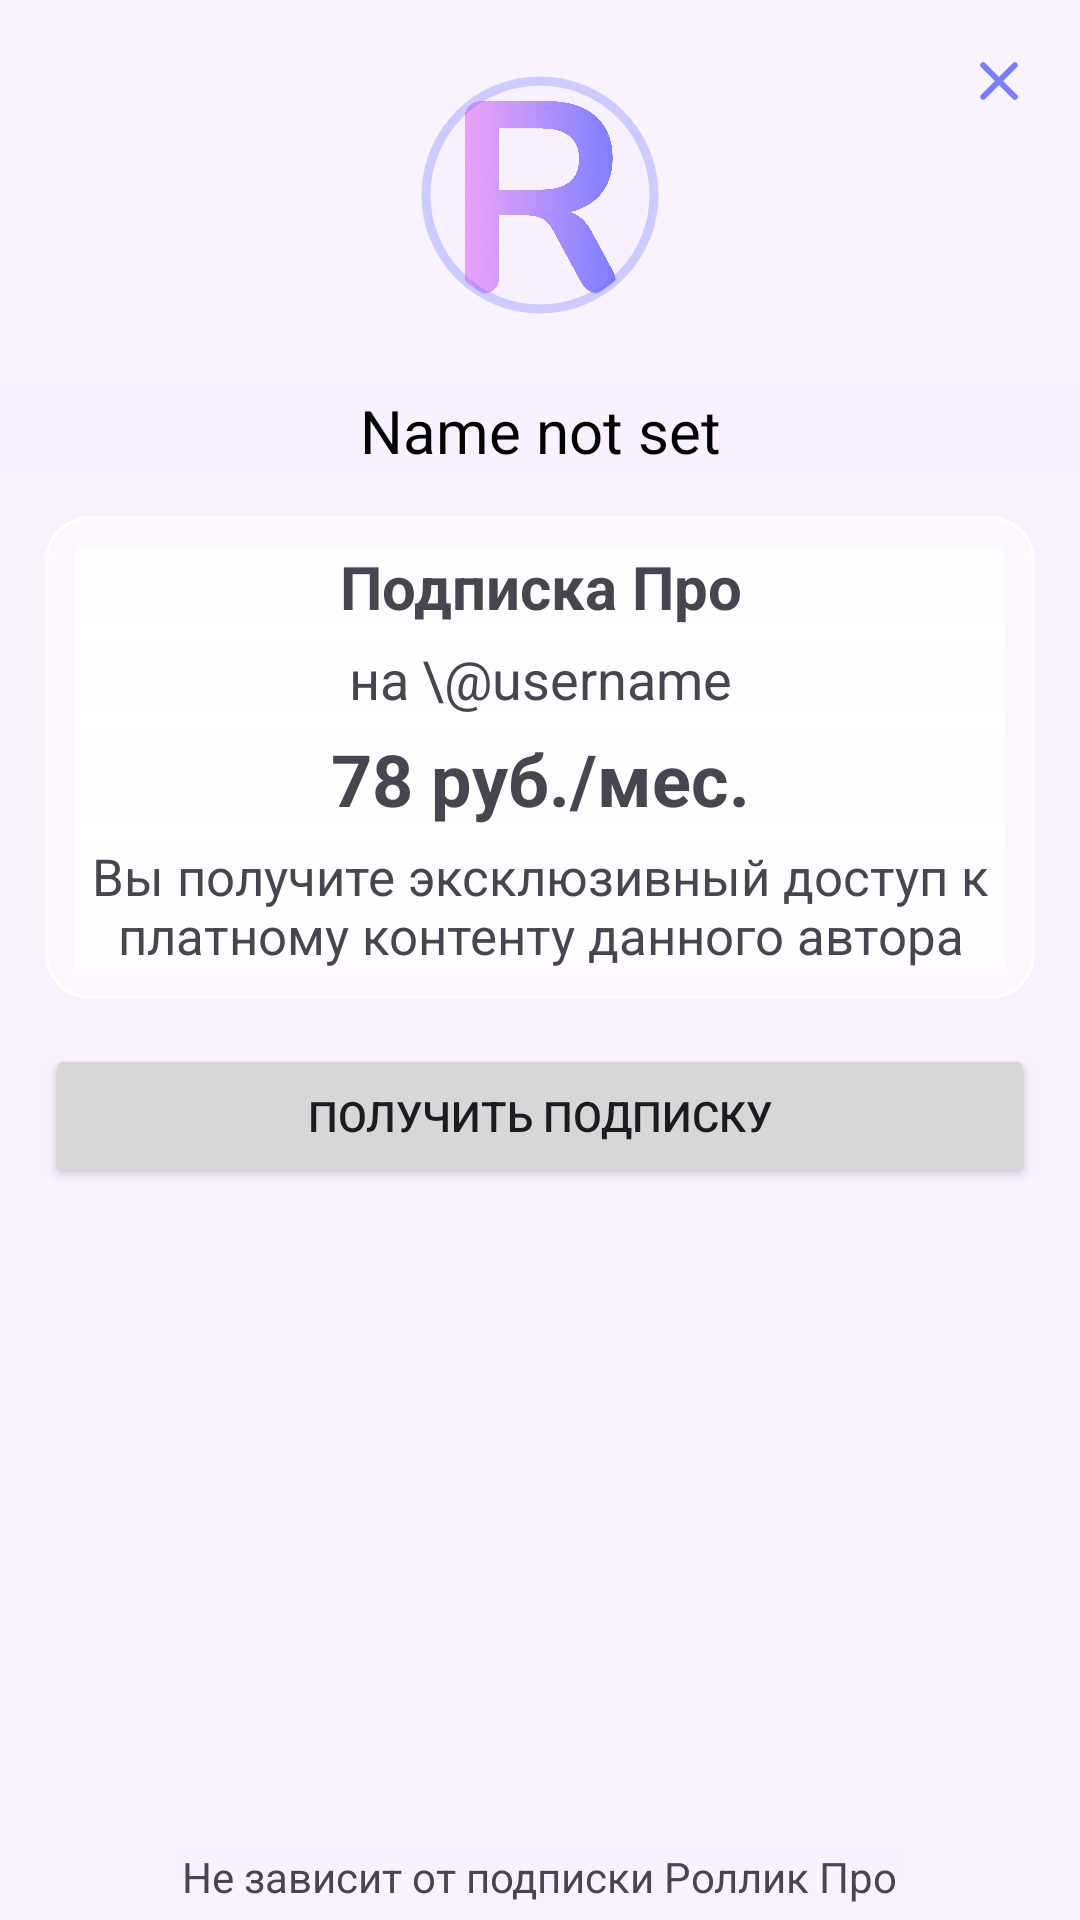

Icons on this 1080 × 1920 Android screen, each with the point to tap as point (x, y):
cancel: point (999, 81)
